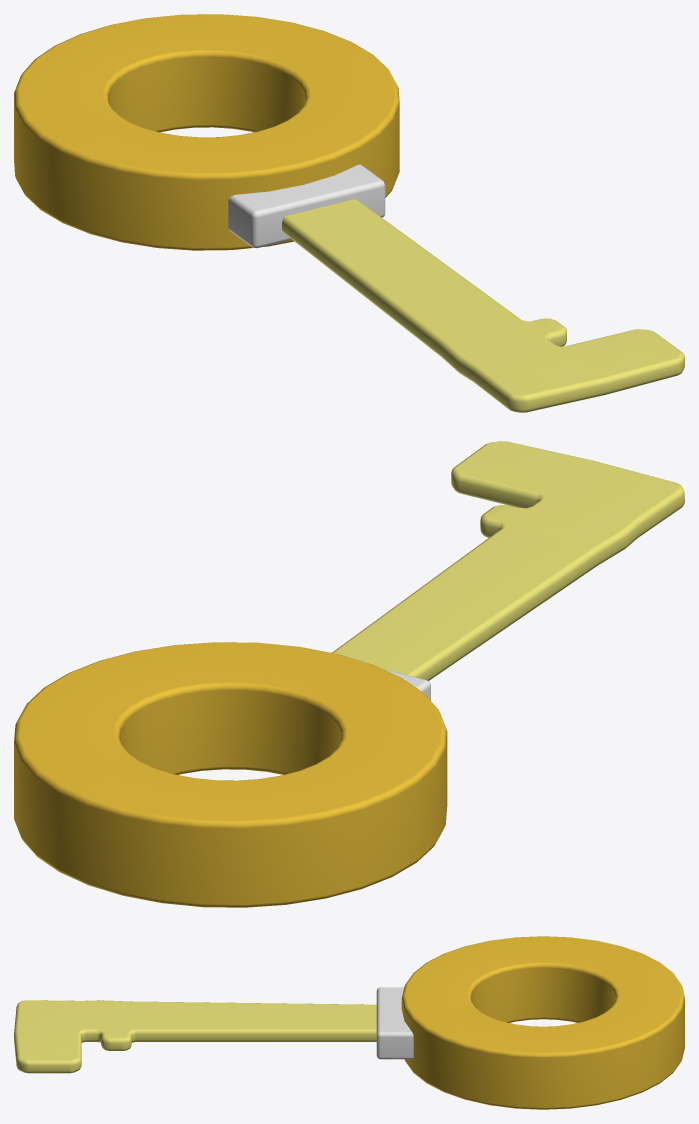
Rendered from key.fbx.
3 views of the same model, one above another, from view 1: azimuth 30°, elevation 25°; view 2: azimuth 150°, elevation 25°; view 3: azimuth 270°, elevation 25° (orthographic). The views are drawn at different scales.
Visible parts, largest first — view 1: Key; view 2: Key; view 3: Key.
Boxes of the visible parts, bbox=[...] form: Key: bbox=[14, 14, 684, 412]; Key: bbox=[14, 441, 684, 907]; Key: bbox=[14, 936, 684, 1109].
Bounding box in the file's own units: 0.1968 × 0.0437 × 0.4664.
